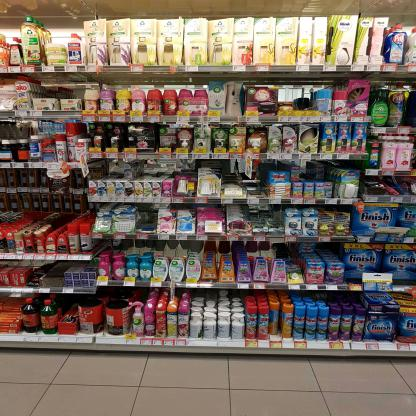Void: (34, 75, 84, 97), (279, 76, 315, 106), (304, 240, 340, 264), (304, 158, 334, 184), (40, 262, 62, 288), (137, 203, 155, 232)
